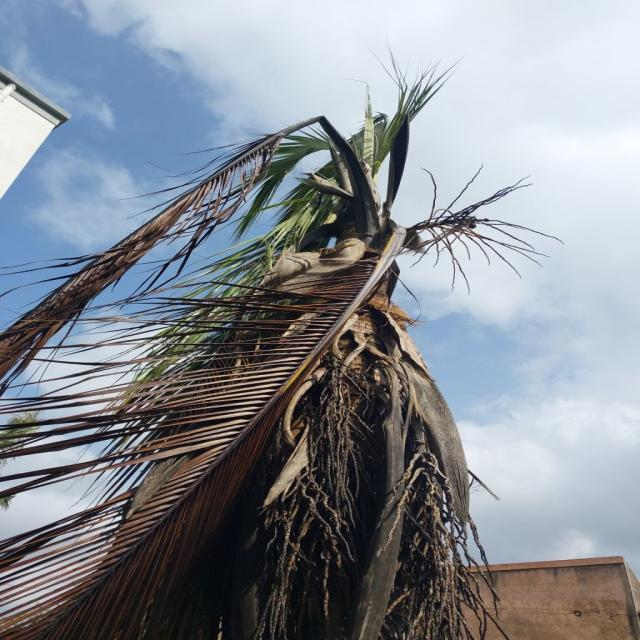bud root dropping: (0, 69, 533, 639)
